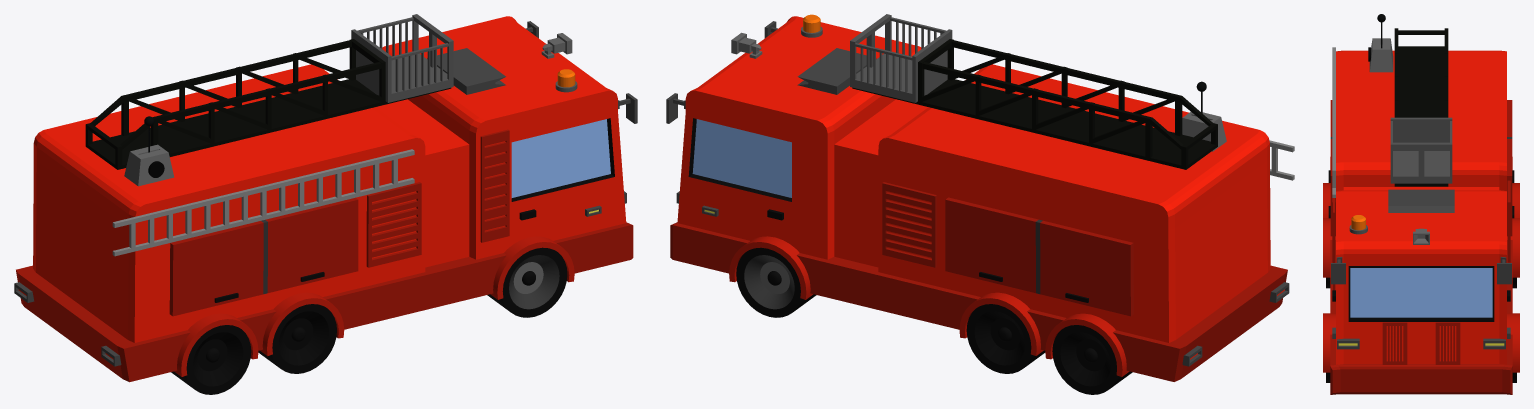
The model's file is fire_truck.glb.
3 views of the same model, side by side, from view 1: azimuth 30°, elevation 25°; view 2: azimuth 150°, elevation 25°; view 3: azimuth 270°, elevation 25° (orthographic). The views are drawn at different scales.
Parts seen in each view (by area): view 1: Cube_0; view 2: Cube_0; view 3: Cube_0.
Part boxes in pixels (x1,y1,x2,y2): Cube_0: [14, 14, 637, 394]; Cube_0: [666, 14, 1294, 394]; Cube_0: [1323, 14, 1519, 394].
Size of the model in its own units: 4.06 by 1.95 by 1.57.
1 material, 1 textured.
